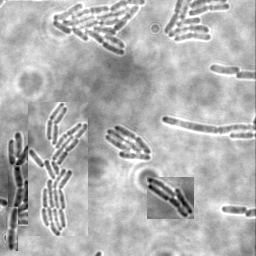Dividing: (161, 114, 255, 133), (6, 207, 18, 251), (221, 204, 248, 215)
Microcolony: (28, 102, 88, 236), (51, 1, 147, 56), (162, 1, 231, 44), (8, 165, 44, 226), (147, 177, 194, 219), (106, 124, 153, 160), (208, 63, 240, 74)
